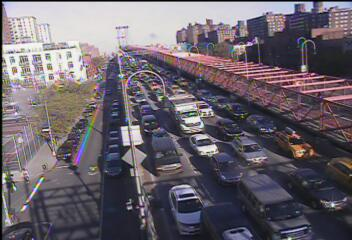neg: (8, 161, 52, 220), (161, 33, 194, 78), (223, 102, 256, 146), (173, 165, 203, 205), (55, 17, 82, 54), (17, 91, 41, 123), (161, 103, 182, 132), (122, 22, 142, 49), (273, 168, 288, 188)
